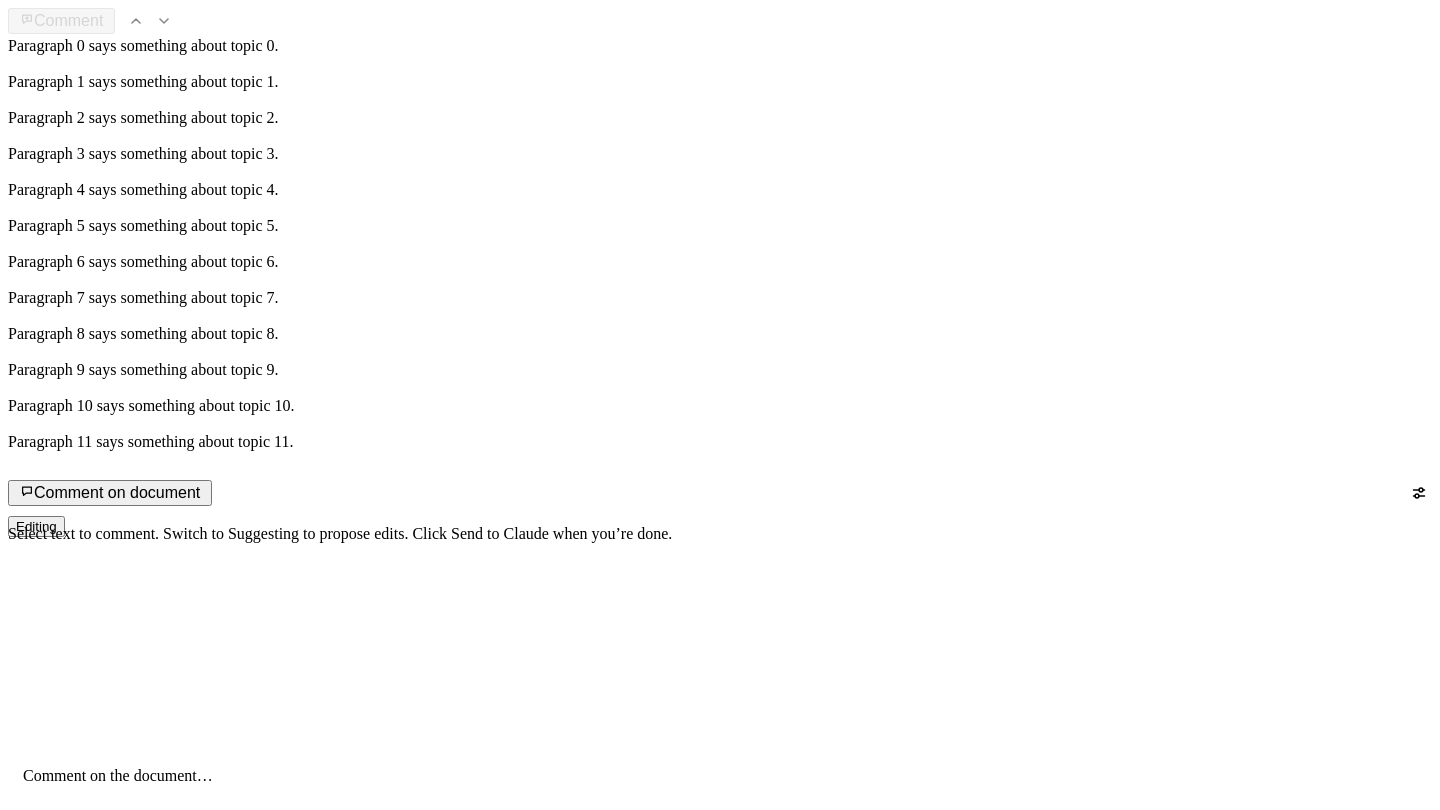
creating comments (§11.4, R2.1) › Cmd+Opt+M outside the editor (no editor focus) focuses the whole-doc dock; posting creates a doc thread, listed in the header
Press KeyM
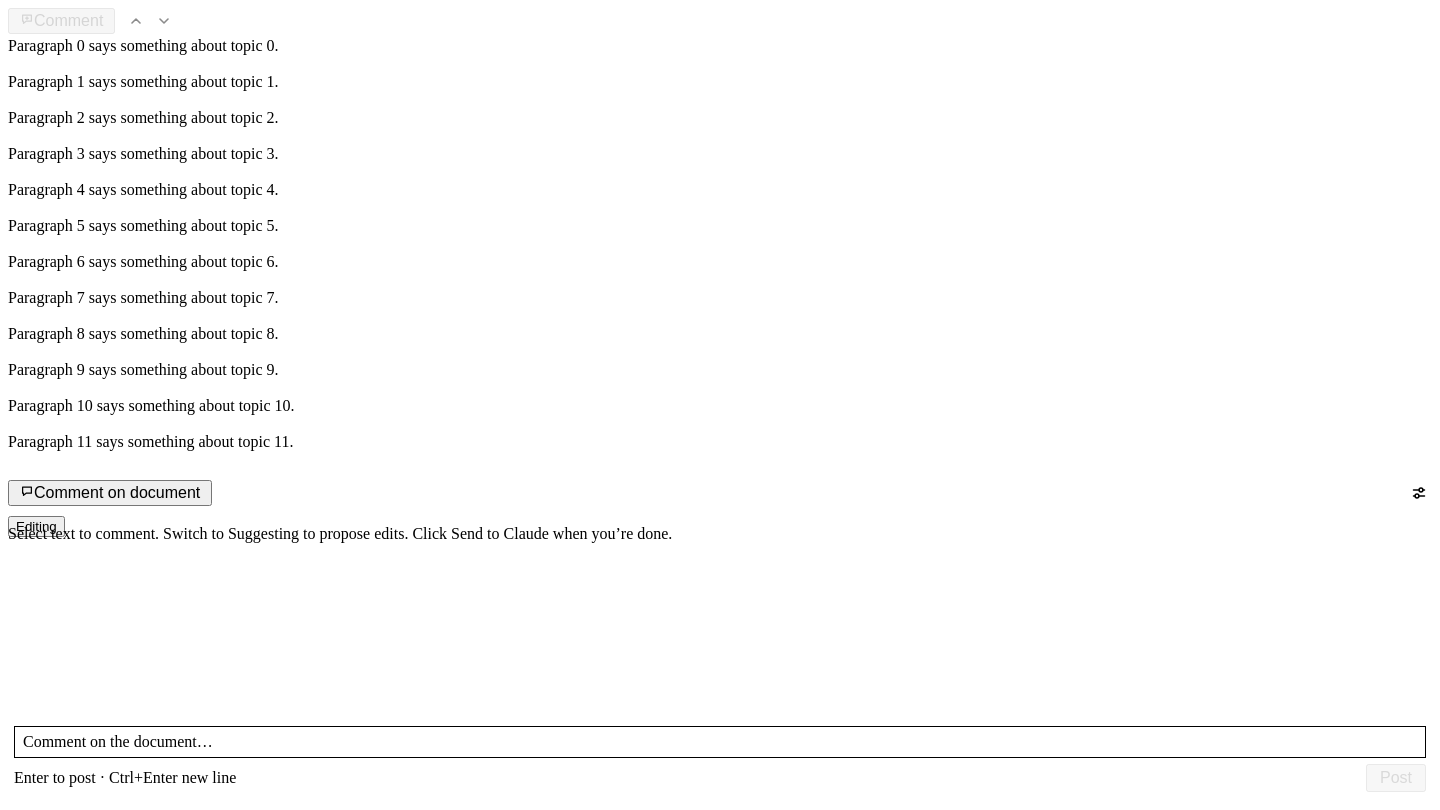
Type "Overall: good." into the text box with placeholder "Comment on the document…" at (720, 742), box [14,726,1426,758]
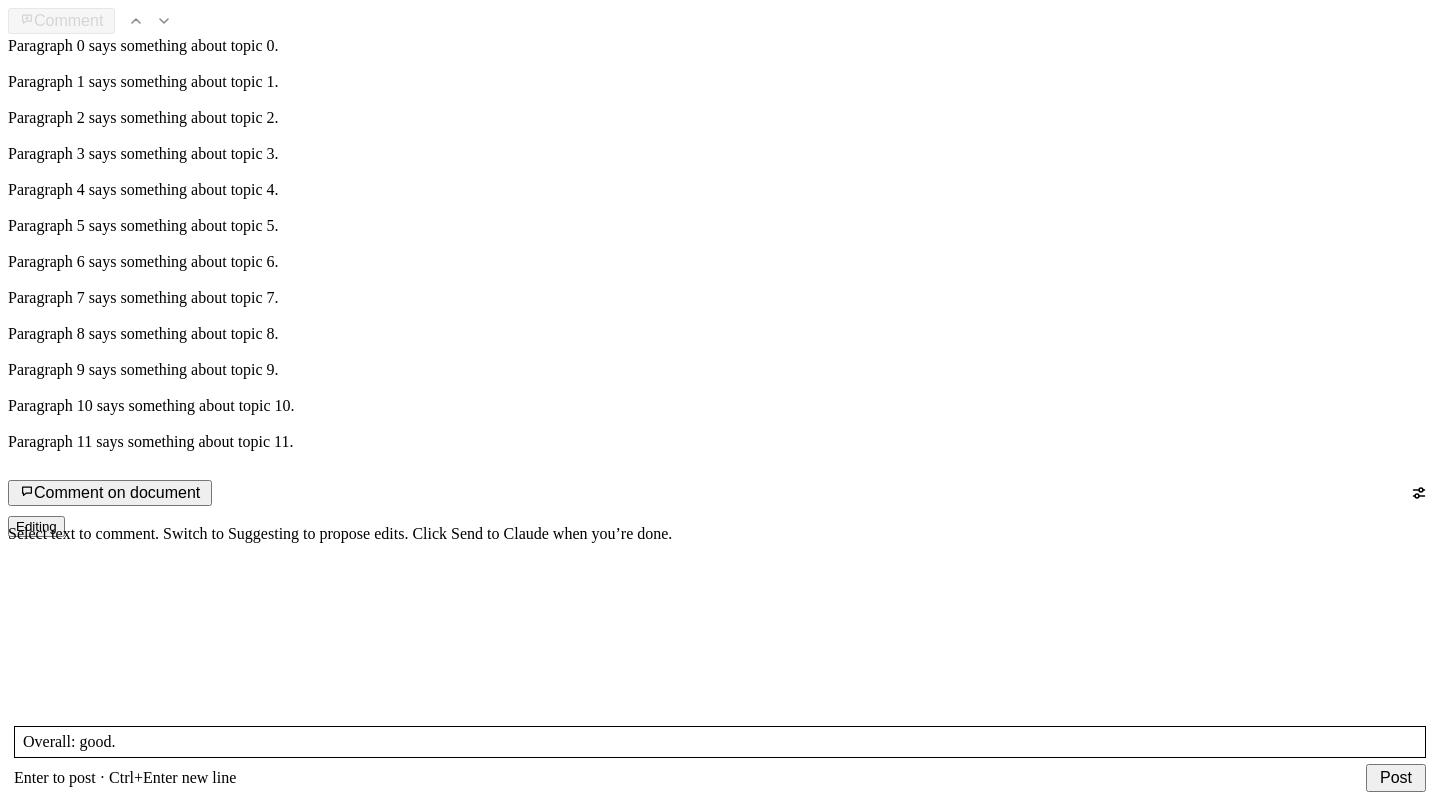
Click the button "Post" at (1396, 778), box [1366,764,1426,792]
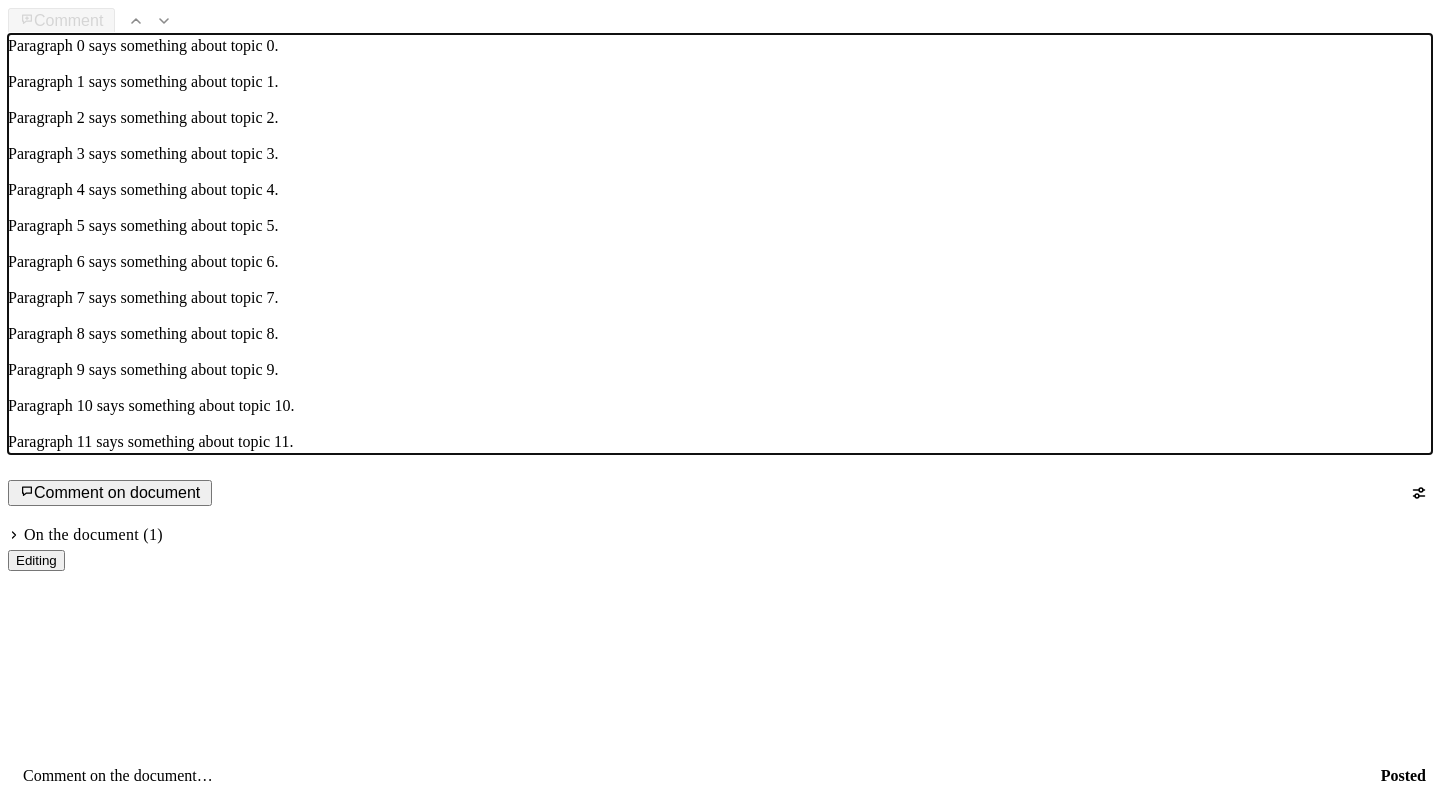
Expected: the button "On the document (1)" is shown, [8,524,163,546]
